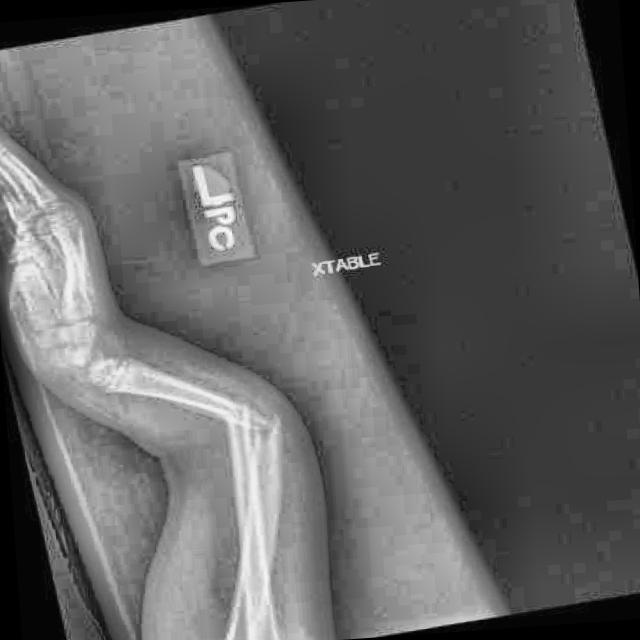forearm fracture: (154, 349, 358, 527)
